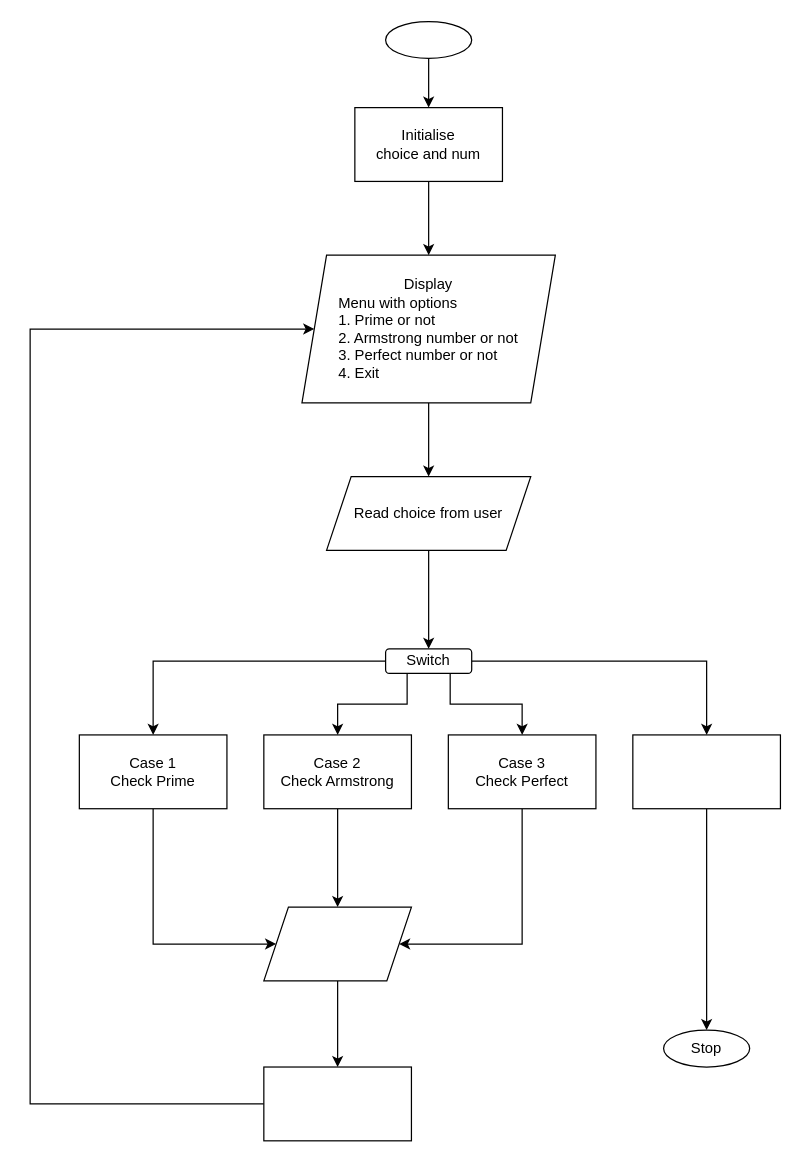
The diagram is 802 pixels wide and 1162 high, and some of its shapes have lost their labels. Here are the shapes that lost their labels. From the top down, the centre of each, then its label:
At pixel 428 39: "Start".
At pixel 706 771: "Case 4 Exit".
At pixel 337 943: "Display Output".
At pixel 337 1103: "Loop Back to Menu".
